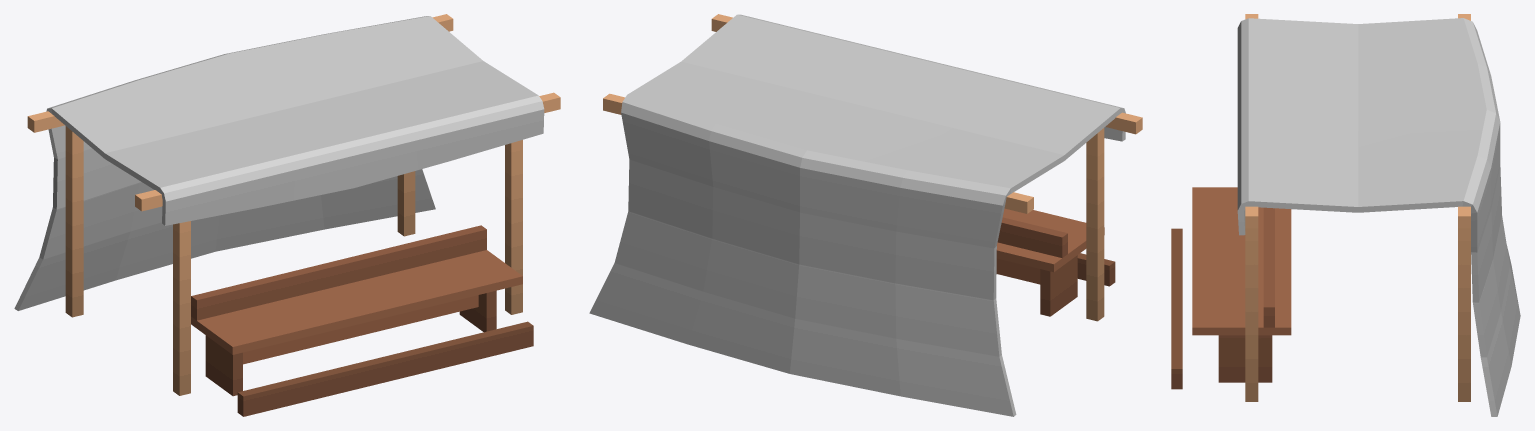
Rendered from food_tent_1.glb.
3 views of the same model, side by side, from view 1: azimuth 30°, elevation 25°; view 2: azimuth 150°, elevation 25°; view 3: azimuth 270°, elevation 25° (orthographic). The views are drawn at different scales.
Visible parts, largest first — view 1: food_tent_1; view 2: food_tent_1; view 3: food_tent_1.
Part boxes in pixels (x1,y1,x2,y2): food_tent_1: (14, 14, 560, 416); food_tent_1: (589, 14, 1142, 416); food_tent_1: (1171, 14, 1520, 416).
Bounding box in the file's own units: 6.43 × 3.1 × 4.68.
Materials: 1 (1 with a texture image).
